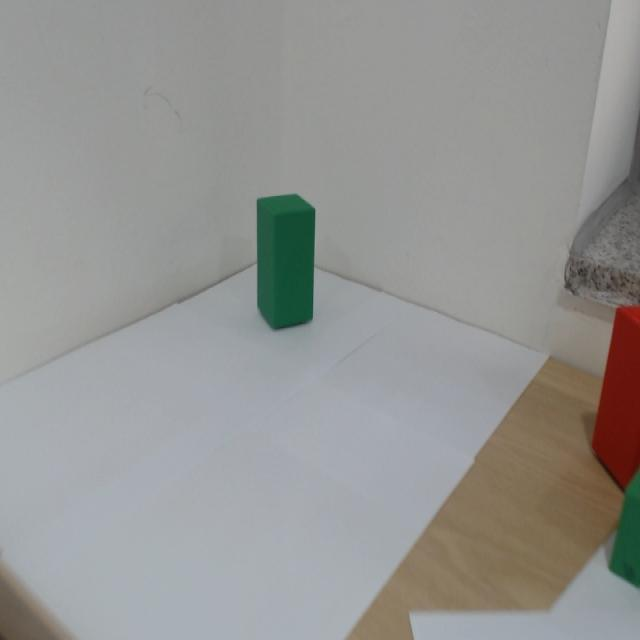cube: (213, 135, 350, 377)
